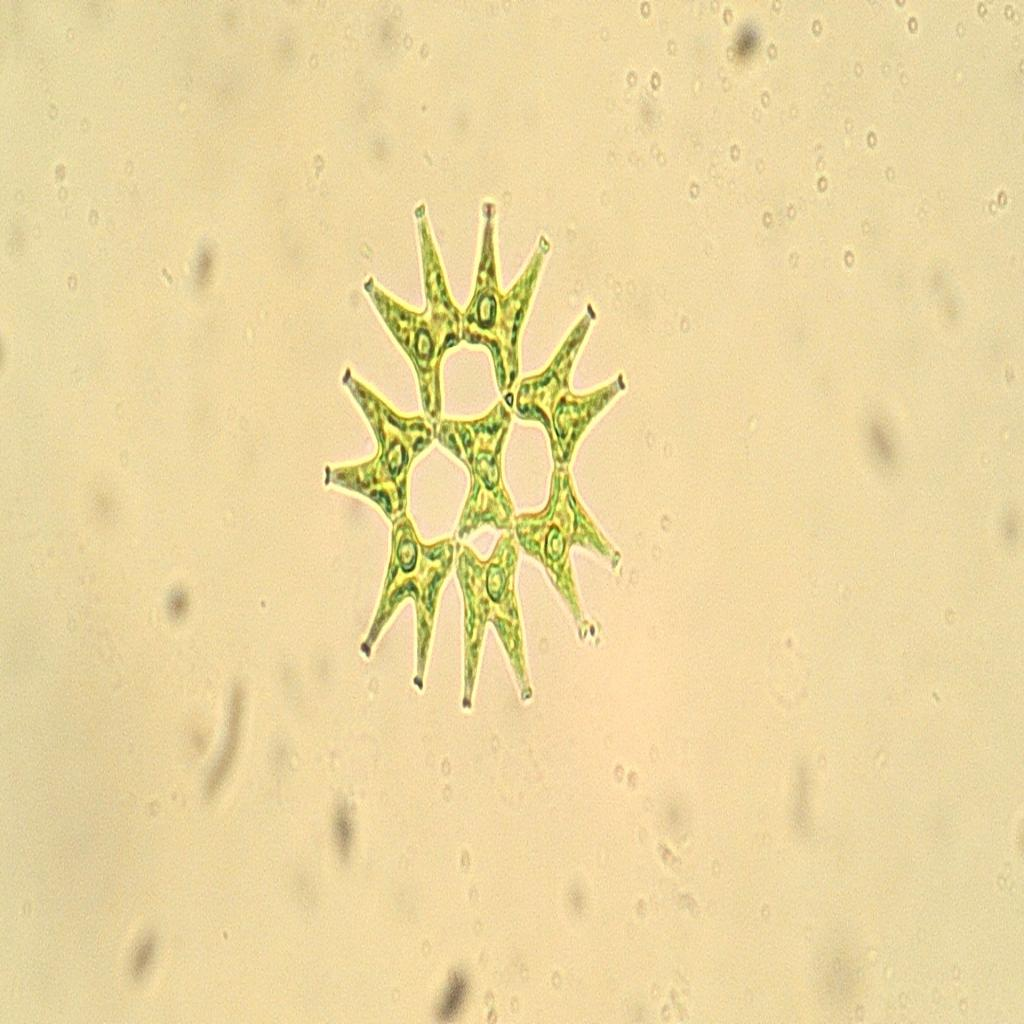Pediastrum_CTH: (319, 172, 639, 724)
